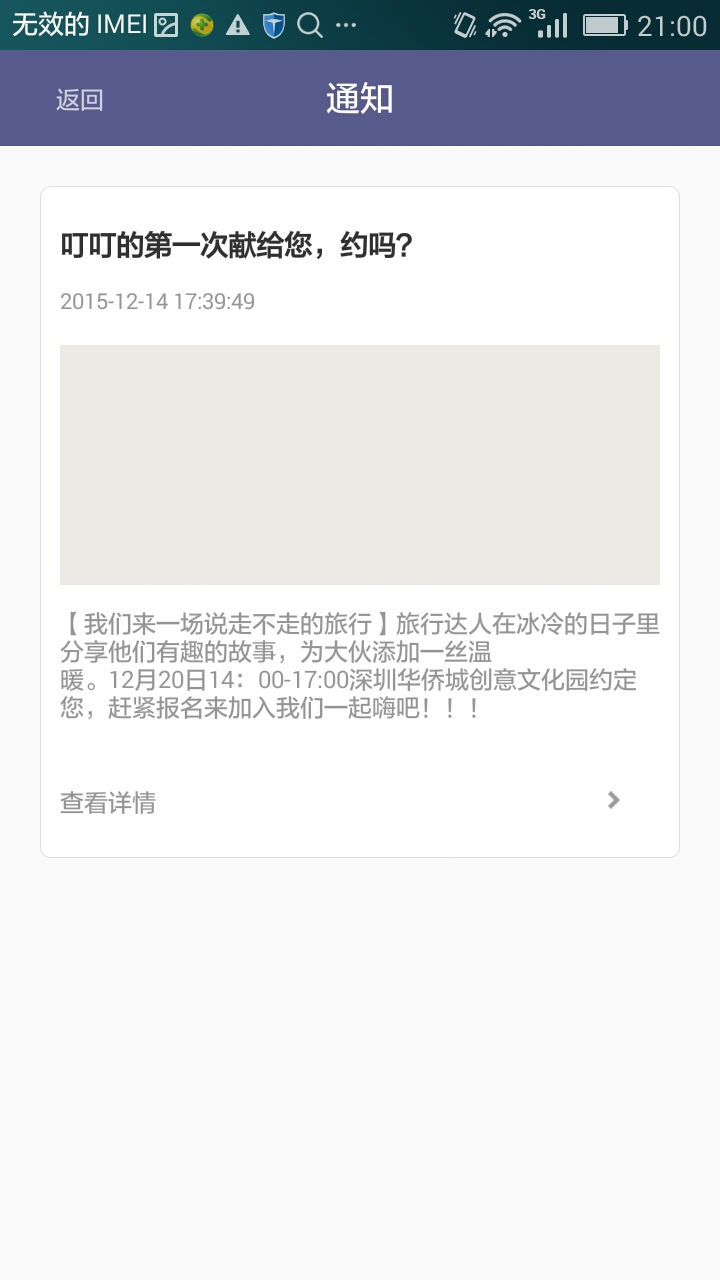imgbutton: (586, 783, 643, 825)
imgview: (48, 337, 673, 596)
textview: (35, 176, 685, 872)
